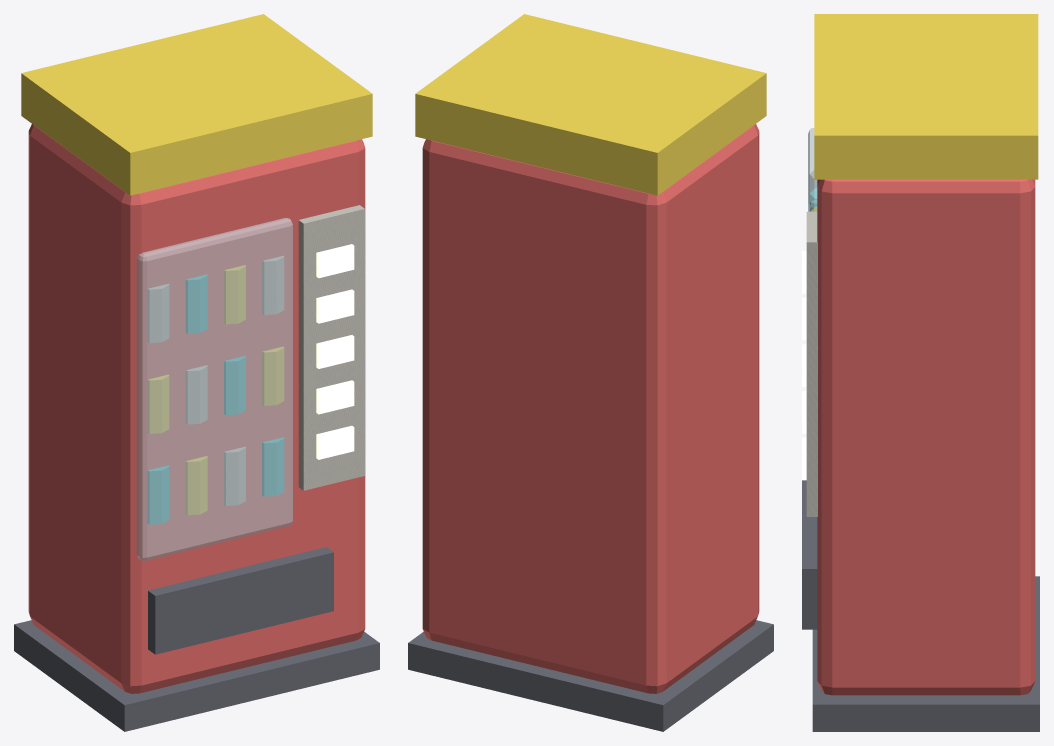
Rendered from Vending_Drinks.glb.
3 views of the same model, side by side, from view 1: azimuth 30°, elevation 25°; view 2: azimuth 150°, elevation 25°; view 3: azimuth 270°, elevation 25° (orthographic). The views are drawn at different scales.
Parts seen in each view (by area): view 1: theme-park-rides-and-coasters-drinks-vending-machine; view 2: theme-park-rides-and-coasters-drinks-vending-machine; view 3: theme-park-rides-and-coasters-drinks-vending-machine.
Part boxes in pixels (box(x1,y1,x2,y2)): theme-park-rides-and-coasters-drinks-vending-machine: box(14, 14, 379, 731); theme-park-rides-and-coasters-drinks-vending-machine: box(408, 14, 773, 731); theme-park-rides-and-coasters-drinks-vending-machine: box(802, 14, 1039, 731).
Bounding box in the file's own units: 1 × 2.16 × 0.785.
Materials: 7 (1 with a texture image).
